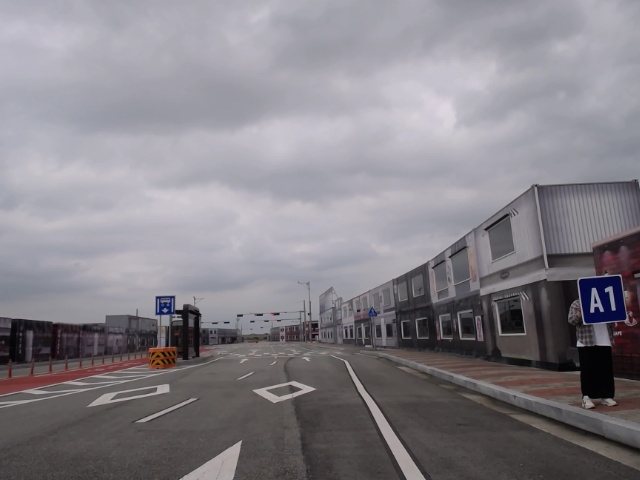delivery_a1: (577, 275, 628, 325)
